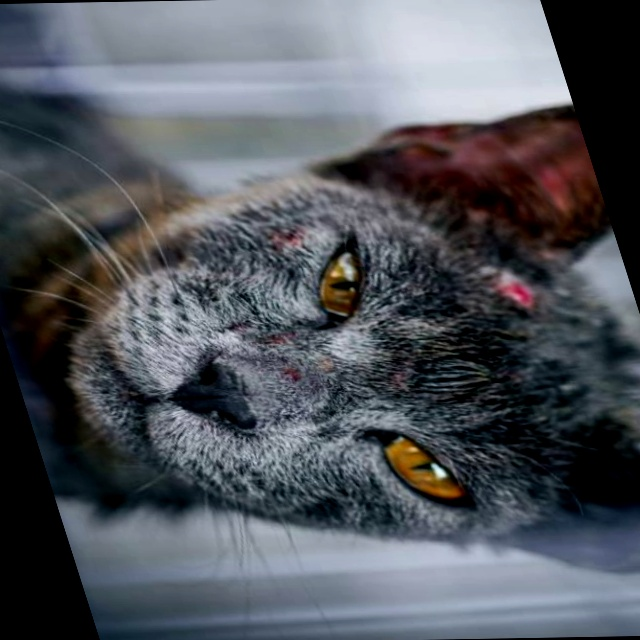ringworm: (262, 332, 312, 386), (500, 281, 534, 312), (268, 235, 306, 249)
